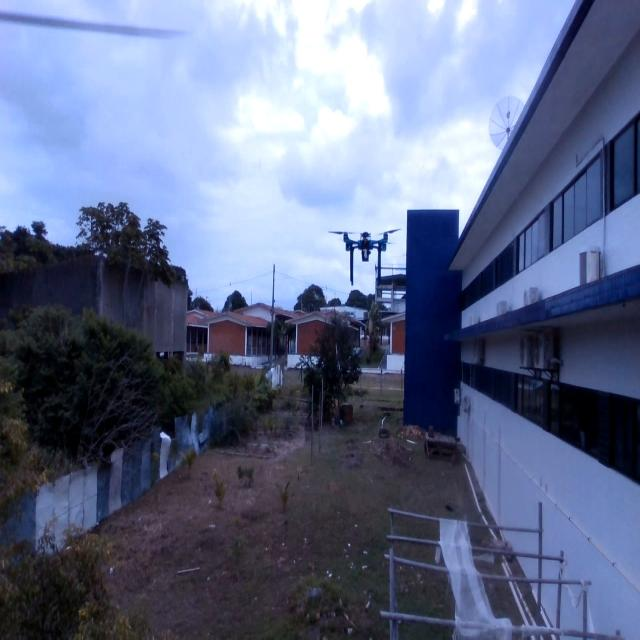-uav-: (322, 203, 408, 308)
